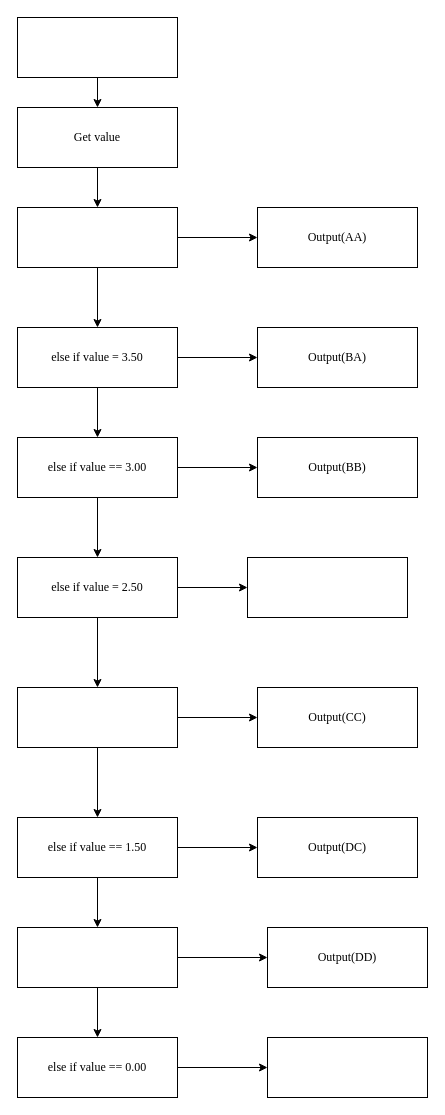
The diagram is 445 pixels wide and 1115 high, and some of its shapes have lost their labels. The shapes that lost their labels are listed below. From the top down, each one's centre as x and y in pixels, then its label:
the point at 97,47: Start
the point at 97,237: if value = 4.00
the point at 327,587: Output(CB)
the point at 97,717: else if value == 2.00
the point at 97,957: else if value == 1.00
the point at 347,1067: Output(FF)
